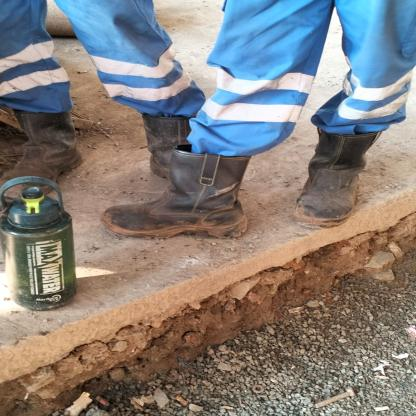bota: (102, 148, 249, 238), (0, 101, 88, 197), (289, 122, 370, 224)
